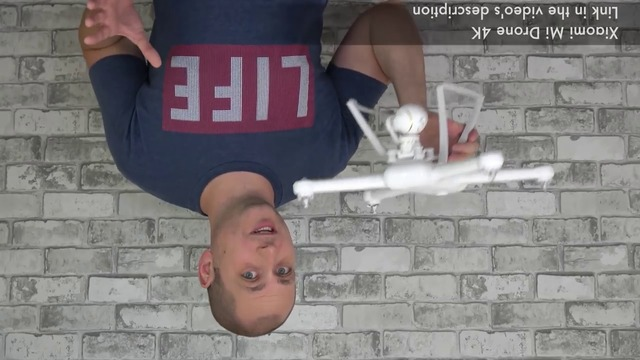drone: (293, 83, 554, 213)
